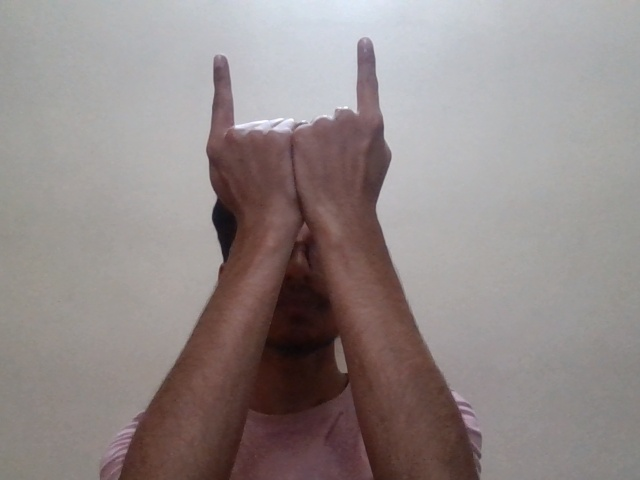when: (204, 33, 398, 220)
